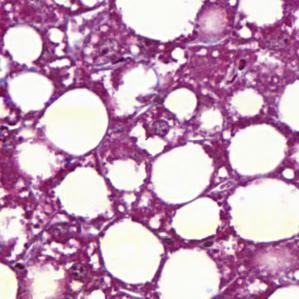steatosis: (98, 216, 162, 287), (150, 143, 214, 204), (228, 125, 287, 175), (10, 72, 49, 109)
